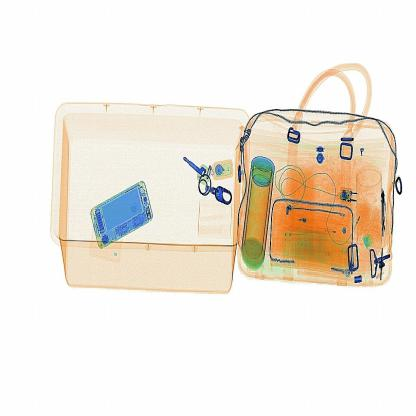knife: (376, 181, 394, 239)
